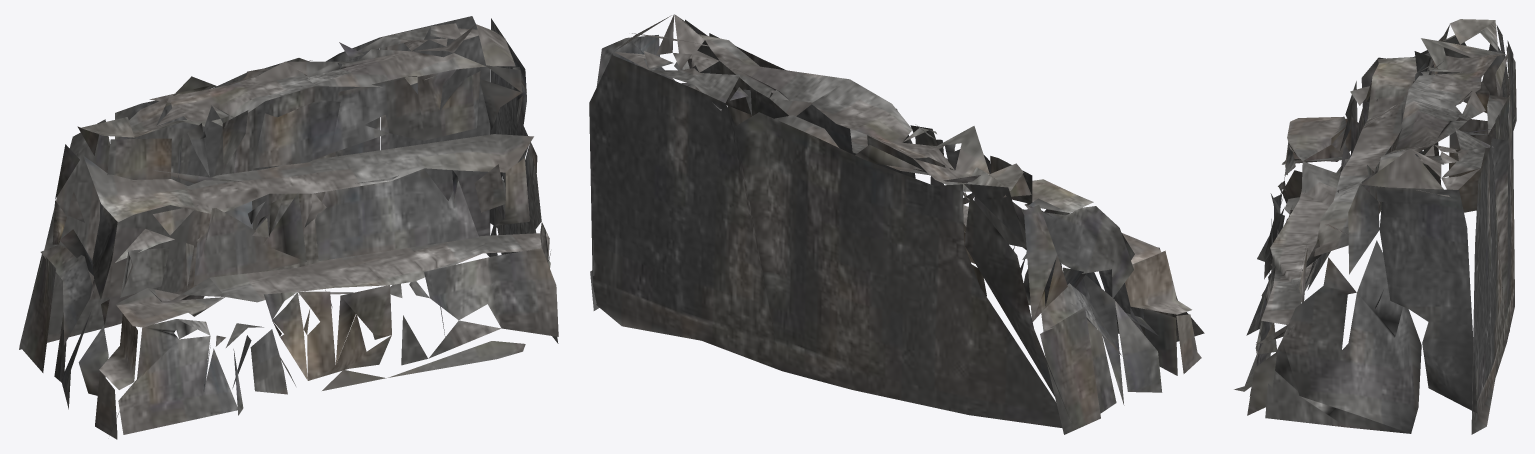
Rendered from steinbruch_felswand_lo.glb.
3 renders of one model, left to right at view 1: azimuth 30°, elevation 25°; view 2: azimuth 150°, elevation 25°; view 3: azimuth 270°, elevation 25°, orthographic. The views are drawn at different scales.
Parts seen in each view (by area): view 1: Prop; view 2: Prop; view 3: Prop.
Part boxes in pixels (<box>): Prop: <box>19,16,558,439</box>; Prop: <box>589,14,1204,434</box>; Prop: <box>1234,19,1516,434</box>.
Bounding box in the file's own units: 2.01 × 1.07 × 1.02.
Materials: 1 (1 with a texture image).
